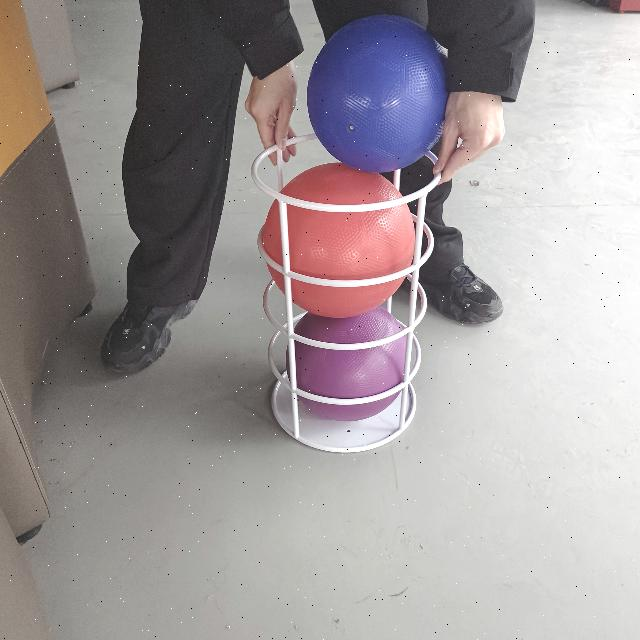B: (303, 5, 449, 167)
P: (284, 312, 412, 421)
R: (256, 163, 420, 317)
S: (255, 145, 439, 453)
